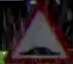Speed Breaker ahead: (6, 3, 72, 63)
